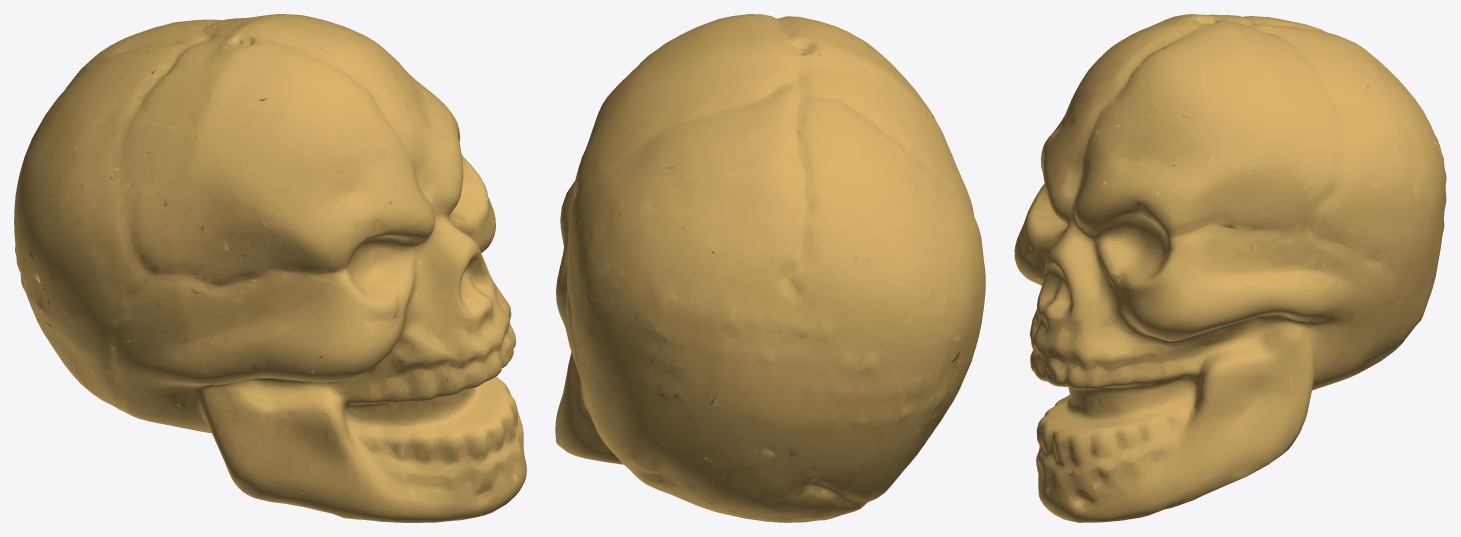
The picture shows the model from 3 angles, left to right: view 1: azimuth 30°, elevation 25°; view 2: azimuth 150°, elevation 25°; view 3: azimuth 270°, elevation 25°; orthographic projection. The views are drawn at different scales.
Parts seen in each view (by area): view 1: Polygon_Reduction.003; view 2: Polygon_Reduction.003; view 3: Polygon_Reduction.003.
Boxes of the visible parts, x1,y1,x2,y2 form: Polygon_Reduction.003: (14, 14, 526, 522); Polygon_Reduction.003: (555, 14, 985, 522); Polygon_Reduction.003: (1014, 14, 1446, 522).
Size of the model in its own units: 0.941 by 0.9963 by 0.9322.
